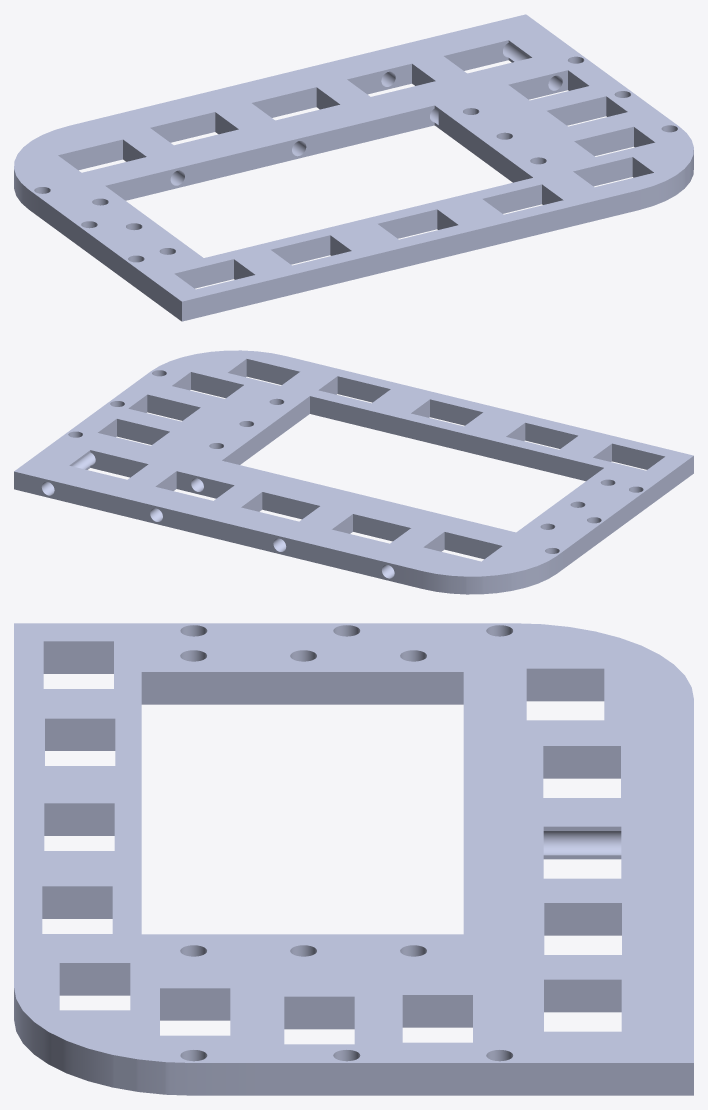
Rendered from body_side_1.dae.
The picture shows the model from 3 angles, top to bottom: view 1: azimuth 30°, elevation 25°; view 2: azimuth 150°, elevation 25°; view 3: azimuth 270°, elevation 25°; orthographic projection. The views are drawn at different scales.
Visible parts, largest first — view 1: node0; view 2: node0; view 3: node0.
Part boxes in pixels (x1=…): node0: x1=14, y1=14, x2=693, y2=321; node0: x1=14, y1=350, x2=693, y2=594; node0: x1=14, y1=623, x2=693, y2=1095.
Bounding box in the file's own units: 0.1157 × 0.004 × 0.0756.
